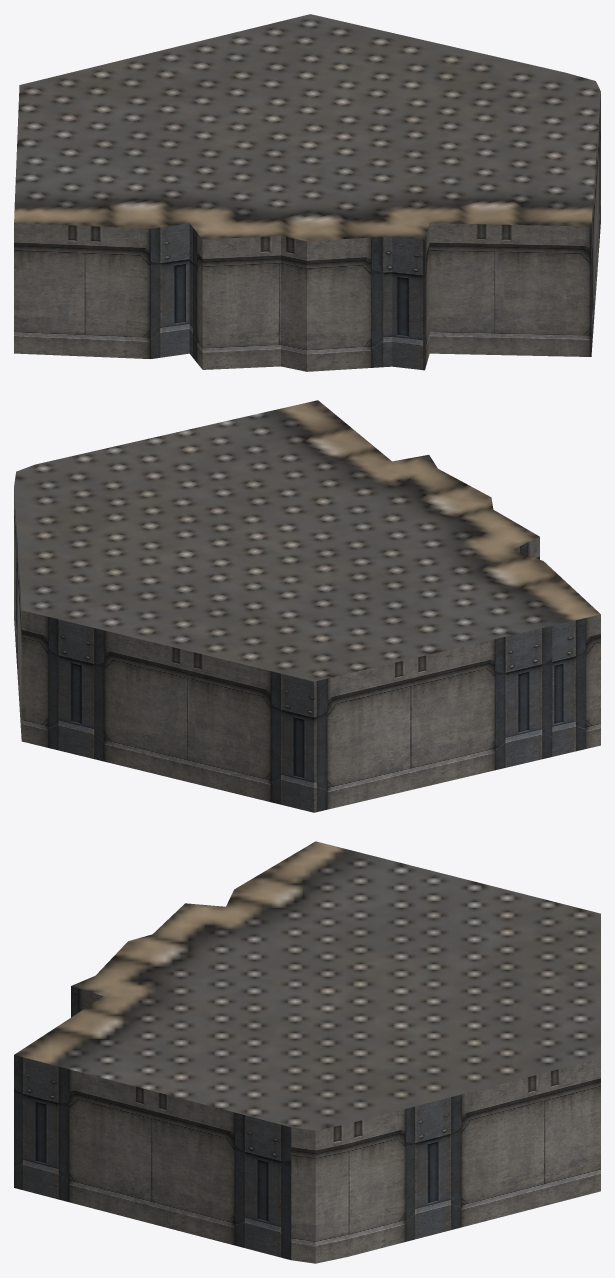
Rendered from building_heavy_a_39.glb.
The picture shows the model from 3 angles, top to bottom: view 1: azimuth 30°, elevation 25°; view 2: azimuth 150°, elevation 25°; view 3: azimuth 270°, elevation 25°; orthographic projection.
Visible parts, largest first — view 1: buildings/saxarba/building_heavy/building_heavy_a_39; view 2: buildings/saxarba/building_heavy/building_heavy_a_39; view 3: buildings/saxarba/building_heavy/building_heavy_a_39.
Boxes of the visible parts, x1=… form: buildings/saxarba/building_heavy/building_heavy_a_39: x1=14, y1=14, x2=600, y2=371; buildings/saxarba/building_heavy/building_heavy_a_39: x1=14, y1=400, x2=600, y2=812; buildings/saxarba/building_heavy/building_heavy_a_39: x1=14, y1=841, x2=600, y2=1263.
Bounding box in the file's own units: 84 × 18 × 72.
